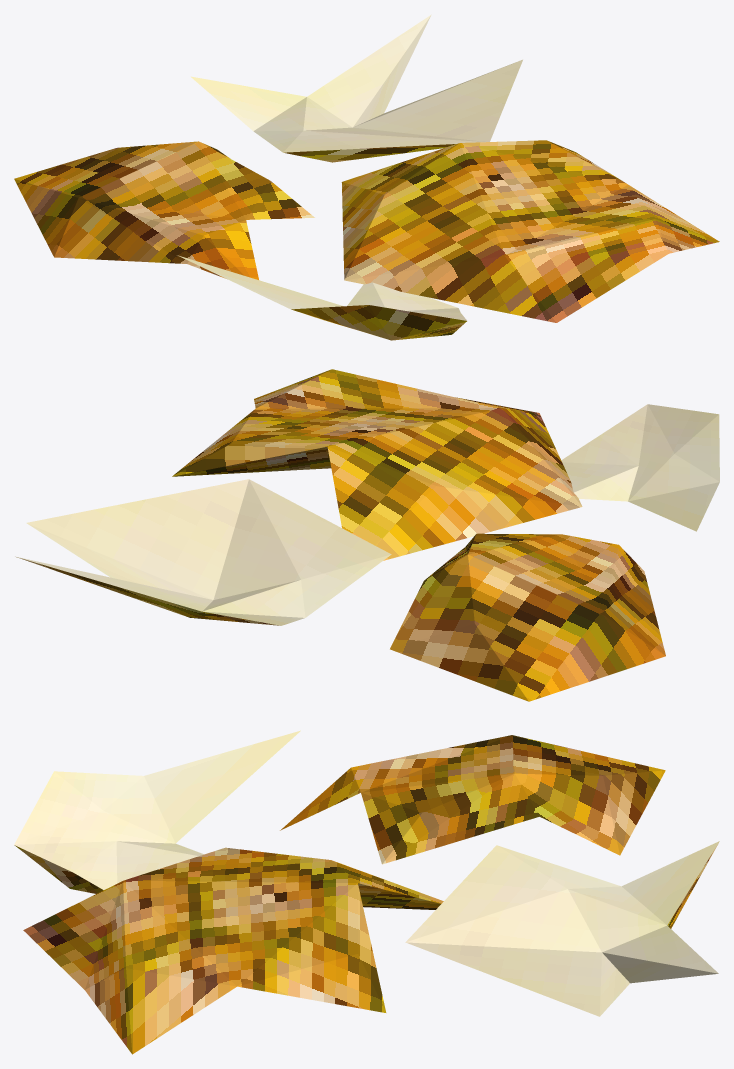
The model's file is FruitRind.fbx.
3 views of the same model, one above another, from view 1: azimuth 30°, elevation 25°; view 2: azimuth 150°, elevation 25°; view 3: azimuth 270°, elevation 25° (orthographic). The views are drawn at different scales.
Visible parts, largest first — view 1: Cube.003; view 2: Cube.003; view 3: Cube.003.
Boxes of the visible parts, box(x1,y1,x2,y2) form: Cube.003: box(14, 14, 719, 340); Cube.003: box(15, 369, 719, 701); Cube.003: box(14, 730, 719, 1054).
Size of the model in its own units: 183 by 24.12 by 184.
